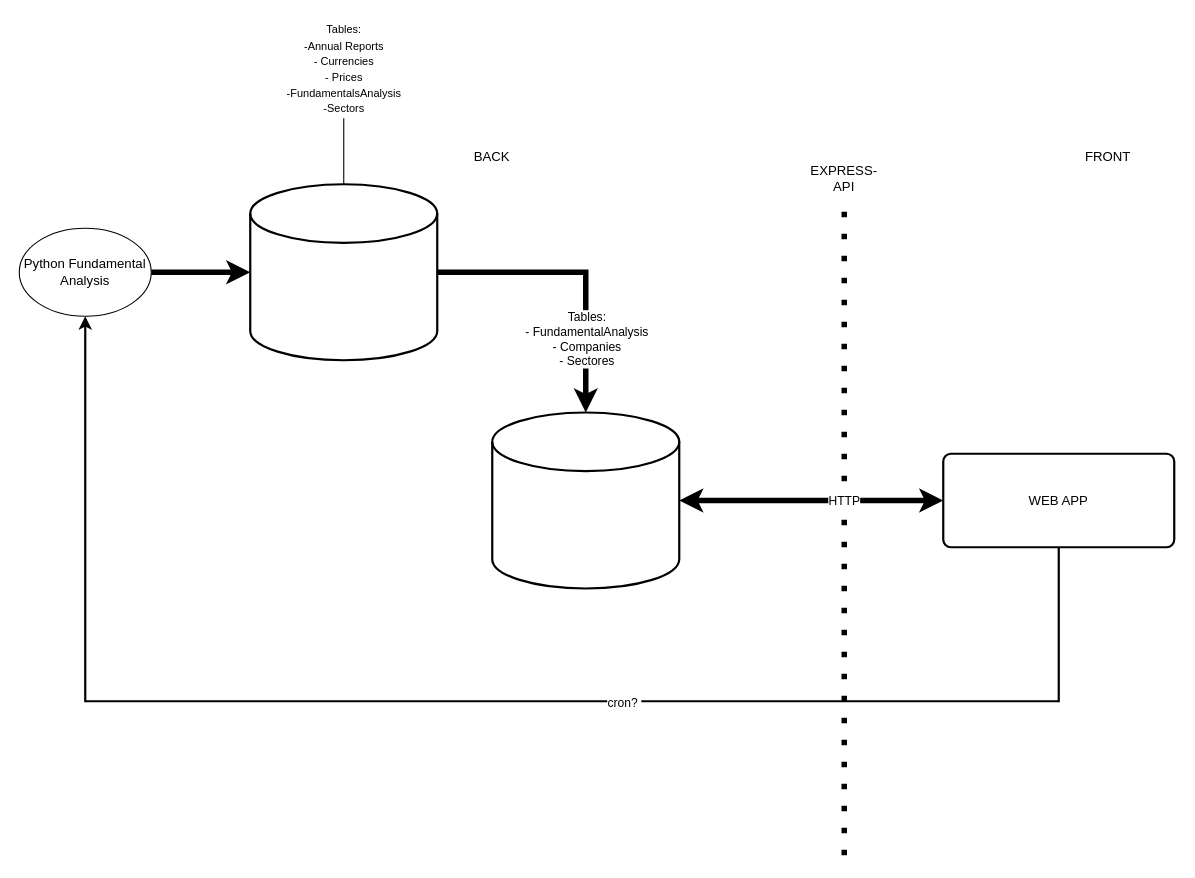
Image size: 1195x878. Some labels were removed from this diagram. Here are the shapes that lost their labels. From the top down, the box of each, then its label:
(249, 183, 438, 361): DB SQLITE LOCAL
(491, 411, 680, 589): DB MYSQL PLANETSCALE
